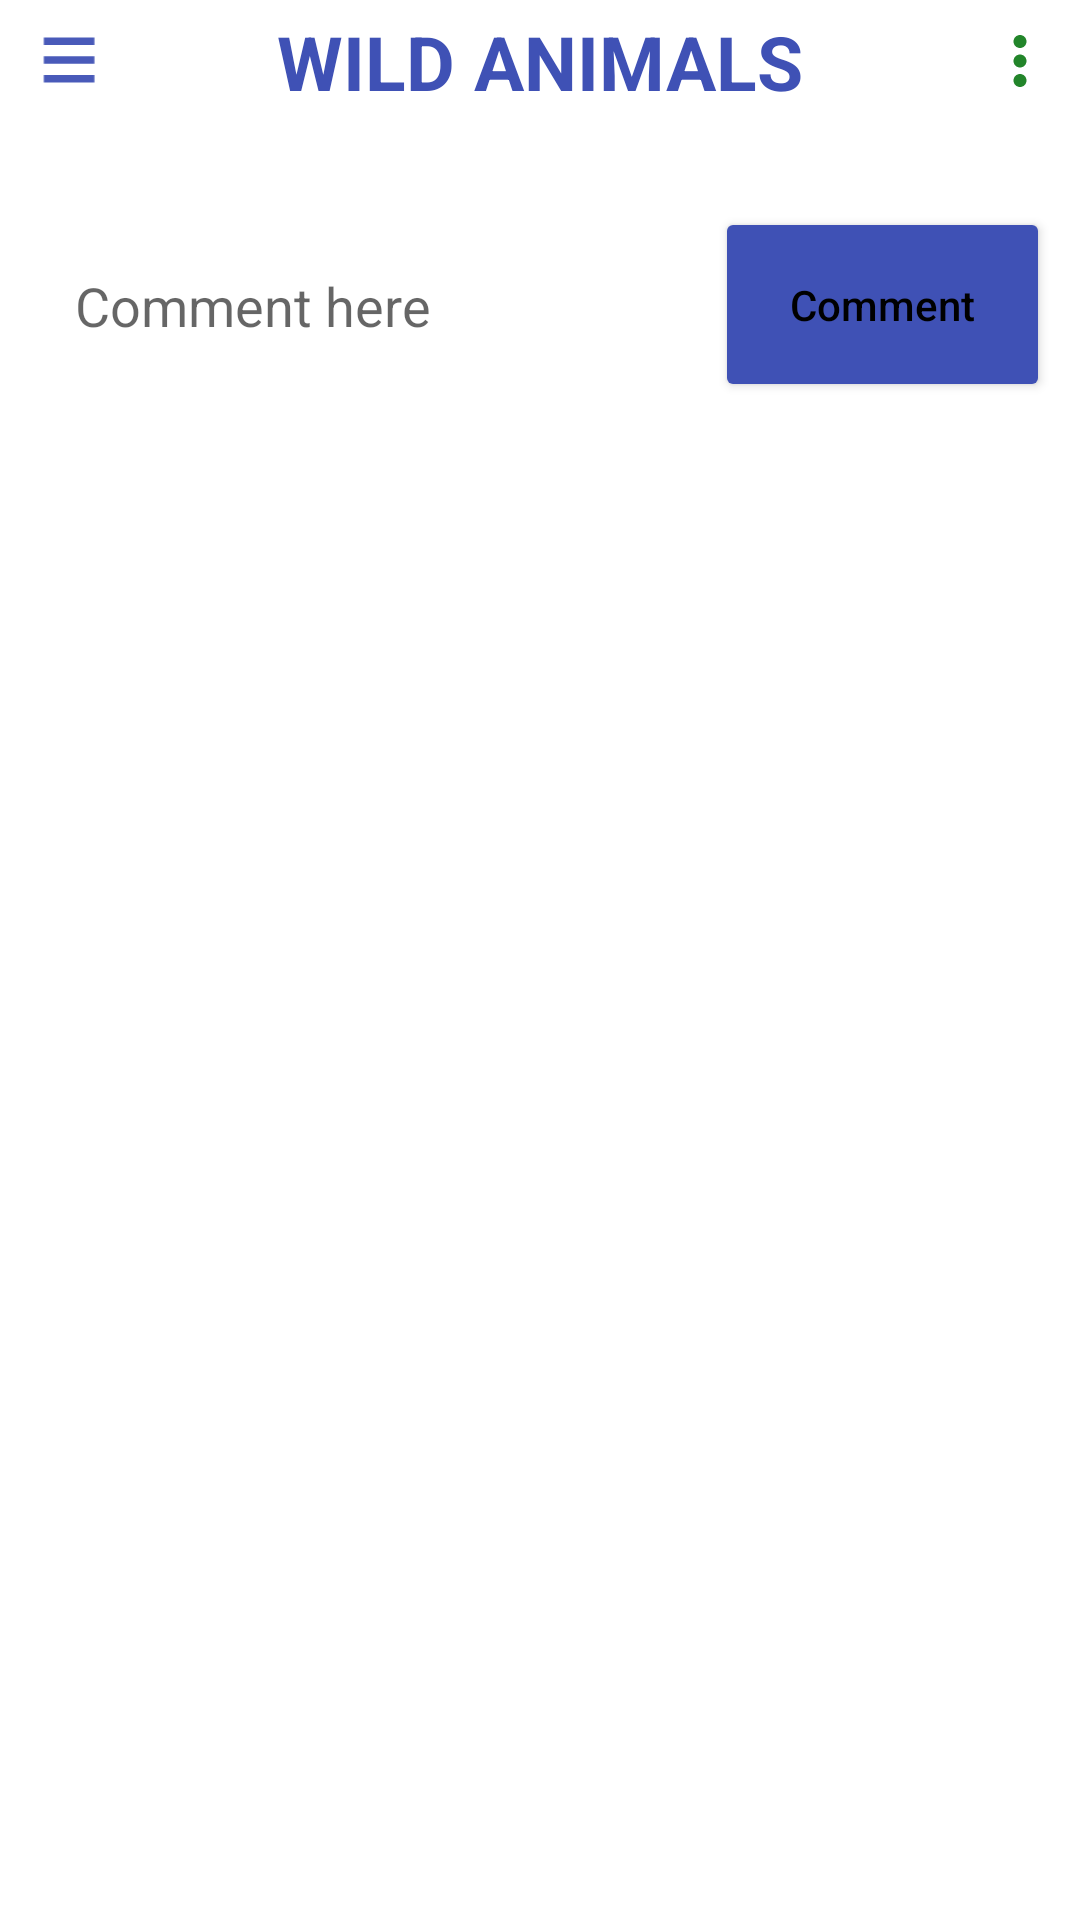

Icons on this 1080*1920 Android screen, each with its box as region(x1, y1, x2, y2):
menu: region(43, 37, 95, 83)
three dot: region(1013, 35, 1027, 87)
